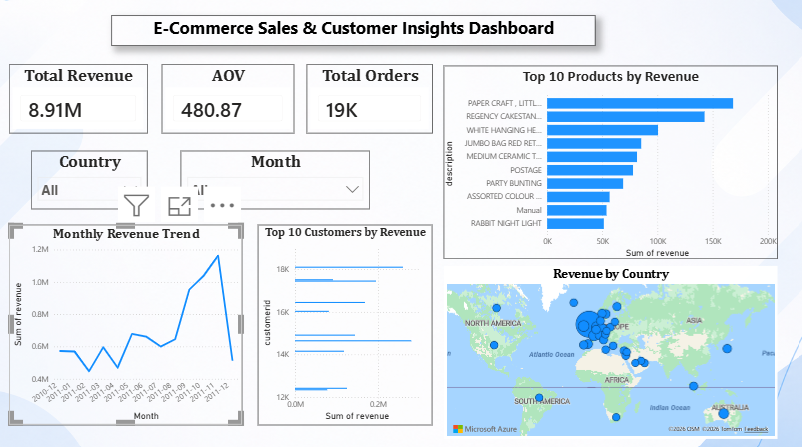

What the dashboard file says about the page in this screenshot:
{"tool":"powerbi","page":{"name":"Page 1","canvas":[1280,720],"ordinal":0},"visuals":[{"type":"cardVisual","title":"Total Revenue","fields":{"Data":["Sum(public retail_cleaned.revenue)"]},"box":[17.5,105,220,110],"z":0},{"type":"cardVisual","title":"AOV","fields":{"Data":["public retail_cleaned.AOV"]},"box":[260,106,210,110],"z":1000},{"type":"cardVisual","title":"Total Orders","fields":{"Data":["public retail_cleaned.Total Orders"]},"box":[490,106,200,110],"z":2000},{"type":"lineChart","title":"Monthly Revenue Trend","fields":{"Category":["public retail_cleaned.Month"],"Y":["Sum(public retail_cleaned.revenue)"]},"box":[18.3,360,370,318.3],"z":3000},{"type":"clusteredBarChart","title":"Top 10 Products by Revenue","fields":{"Category":["public retail_cleaned.description"],"Y":["Sum(public retail_cleaned.revenue)"]},"box":[708.3,106.7,530,306.7],"z":4000},{"type":"clusteredBarChart","title":"Top 10 Customers by Revenue","fields":{"Category":["public retail_cleaned.customerid"],"Y":["Sum(public retail_cleaned.revenue)"]},"box":[413.3,360,276.7,318.3],"z":5000},{"type":"azureMap","title":"Revenue by Country","fields":{"Category":["public retail_cleaned.country"],"Size":["Sum(public retail_cleaned.revenue)"]},"box":[708.3,425,530,275],"z":6000},{"type":"shape","title":"E-Commerce Sales & Customer Insights Dashboard","box":[180,28,768,48],"z":7000},{"type":"slicer","title":"Country","fields":{"Values":["public retail_cleaned.country"]},"box":[52.5,242.5,185,92.5],"z":8000},{"type":"slicer","title":"Month","fields":{"Values":["public retail_cleaned.Month"]},"box":[290,242.5,300,92.5],"z":8001}]}

Visuals, with their boxes in screenshot pixels (x1, y1, x2, y2), scaled from the page's 1280x720 canvas onto the 802x447 screenshot:
"Total Revenue" cardVisual: box(11, 65, 149, 133)
"AOV" cardVisual: box(163, 66, 294, 134)
"Total Orders" cardVisual: box(307, 66, 432, 134)
"Monthly Revenue Trend" lineChart: box(11, 224, 243, 421)
"Top 10 Products by Revenue" clusteredBarChart: box(444, 66, 776, 257)
"Top 10 Customers by Revenue" clusteredBarChart: box(259, 224, 432, 421)
"Revenue by Country" azureMap: box(444, 264, 776, 435)
"E-Commerce Sales & Customer Insights Dashboard" shape: box(113, 17, 594, 47)
"Country" slicer: box(33, 151, 149, 208)
"Month" slicer: box(182, 151, 370, 208)
